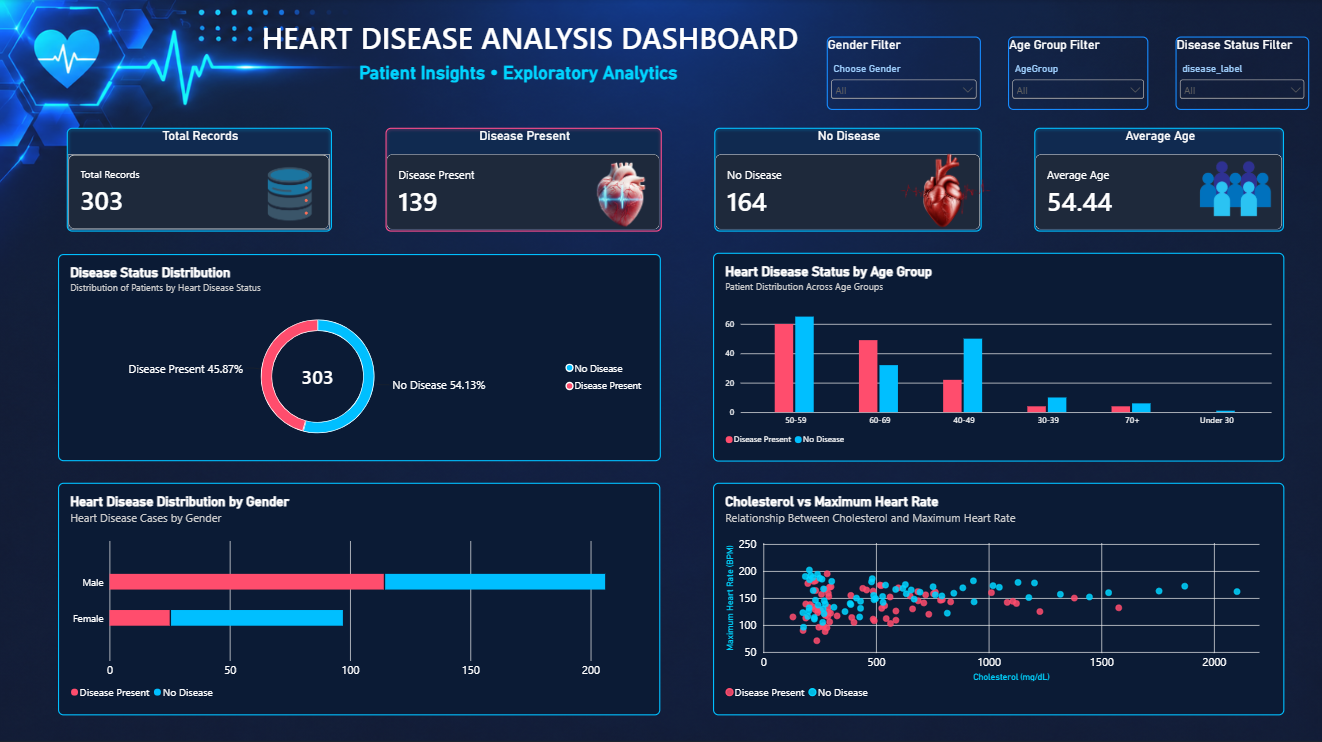

The dashboard page shown, as its layout file describes it:
{"tool":"powerbi","page":{"name":"Dashboard","canvas":[1920,1080],"ordinal":0},"visuals":[{"type":"textbox","title":"HEART DISEASE ANALYSIS DASHBOARD","box":[340,25,860,60],"z":0},{"type":"cardVisual","title":"Total Records","fields":{"Data":["heart_disease_cleaned.Total Records"]},"box":[100,186.7,383.6,150.2],"z":1000},{"type":"cardVisual","title":"Disease Present","fields":{"Data":["heart_disease_cleaned.Disease Present"]},"box":[560.1,186.7,399.9,150.2],"z":2000},{"type":"cardVisual","title":"No Disease","fields":{"Data":["heart_disease_cleaned.No Disease"]},"box":[1036.5,186.7,387.3,150.2],"z":3000},{"type":"cardVisual","title":"Average Age","fields":{"Data":["heart_disease_cleaned.Average Age"]},"box":[1500.2,186.7,361.9,150.2],"z":4000},{"type":"textbox","box":[143,357,300,150],"z":5000},{"type":"donutChart","title":"Disease Status Distribution","fields":{"Category":["heart_disease_cleaned.disease_label"],"Y":["CountNonNull(heart_disease_cleaned.age)"]},"box":[86.7,370,872.5,300],"z":6000},{"type":"clusteredColumnChart","title":"Heart Disease Status by Age Group","fields":{"Category":["heart_disease_cleaned.AgeGroup"],"Series":["heart_disease_cleaned.disease_label"],"Y":["CountNonNull(heart_disease_cleaned.age)"]},"box":[1035.1,367.8,827,302.2],"z":7000},{"type":"barChart","title":"Heart Disease Distribution by Gender","fields":{"Category":["heart_disease_cleaned.sex_label"],"Series":["heart_disease_cleaned.disease_label"],"Y":["CountNonNull(heart_disease_cleaned.age)"]},"box":[86.7,700,872.3,336.6],"z":8000},{"type":"scatterChart","title":"Cholesterol vs Maximum Heart Rate","fields":{"Series":["heart_disease_cleaned.disease_label"],"X":["Sum(heart_disease_cleaned.chol)"],"Y":["heart_disease_cleaned.thalach"]},"box":[1035.1,700,827,336.6],"z":9000},{"type":"textbox","title":"Patient Insights • Exploratory Analytics","box":[523,90.5,571.9,70.6],"z":10000},{"type":"slicer","title":"Gender Filter","fields":{"Values":["heart_disease_cleaned.sex_label"]},"box":[1199.8,54.3,223.3,106.7],"z":11000},{"type":"slicer","title":"Age Group Filter","fields":{"Values":["heart_disease_cleaned.AgeGroup"]},"box":[1462.3,54.3,203.3,106.7],"z":12000},{"type":"slicer","title":"Disease Status Filter","fields":{"Values":["heart_disease_cleaned.disease_label"]},"box":[1704.7,54.3,193.3,106.7],"z":13000},{"type":"image","box":[369.2,222.6,106.8,119.4],"z":14000},{"type":"image","box":[1283.3,216.7,176.7,130],"z":15000},{"type":"image","box":[843.3,231.6,116.7,103.3],"z":16000},{"type":"image","box":[1736.7,223.3,106.7,103.3],"z":17000}]}

Visuals, with their boxes in screenshot pixels (x1, y1, x2, y2), scaled from the page's 1920x1080 canvas onto the 1322x742 screenshot:
"HEART DISEASE ANALYSIS DASHBOARD" textbox: (234, 17, 826, 58)
"Total Records" cardVisual: (69, 128, 333, 231)
"Disease Present" cardVisual: (386, 128, 661, 231)
"No Disease" cardVisual: (714, 128, 980, 231)
"Average Age" cardVisual: (1033, 128, 1282, 231)
textbox: (98, 245, 305, 348)
"Disease Status Distribution" donutChart: (60, 254, 660, 460)
"Heart Disease Status by Age Group" clusteredColumnChart: (713, 253, 1282, 460)
"Heart Disease Distribution by Gender" barChart: (60, 481, 660, 712)
"Cholesterol vs Maximum Heart Rate" scatterChart: (713, 481, 1282, 712)
"Patient Insights • Exploratory Analytics" textbox: (360, 62, 754, 111)
"Gender Filter" slicer: (826, 37, 980, 111)
"Age Group Filter" slicer: (1007, 37, 1147, 111)
"Disease Status Filter" slicer: (1174, 37, 1307, 111)
image: (254, 153, 328, 235)
image: (884, 149, 1005, 238)
image: (581, 159, 661, 230)
image: (1196, 153, 1269, 224)
